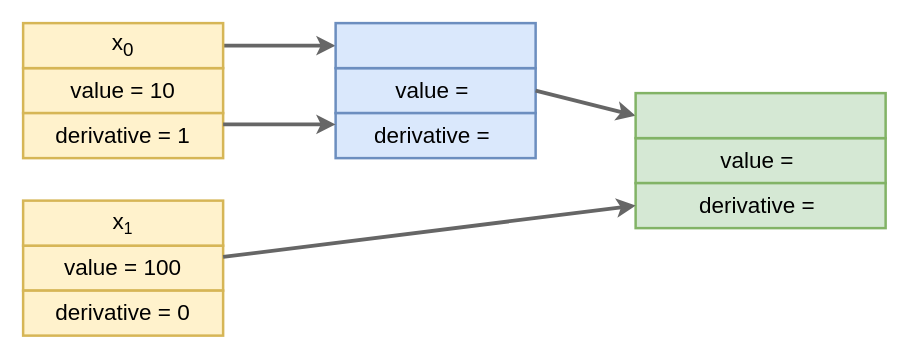
This 908x358 diagram has some shape labels left out. Each missing label, with the box of its shape:
t=x 0 *x 0: (334, 21, 536, 69)
y=t*x 1: (634, 91, 886, 139)
